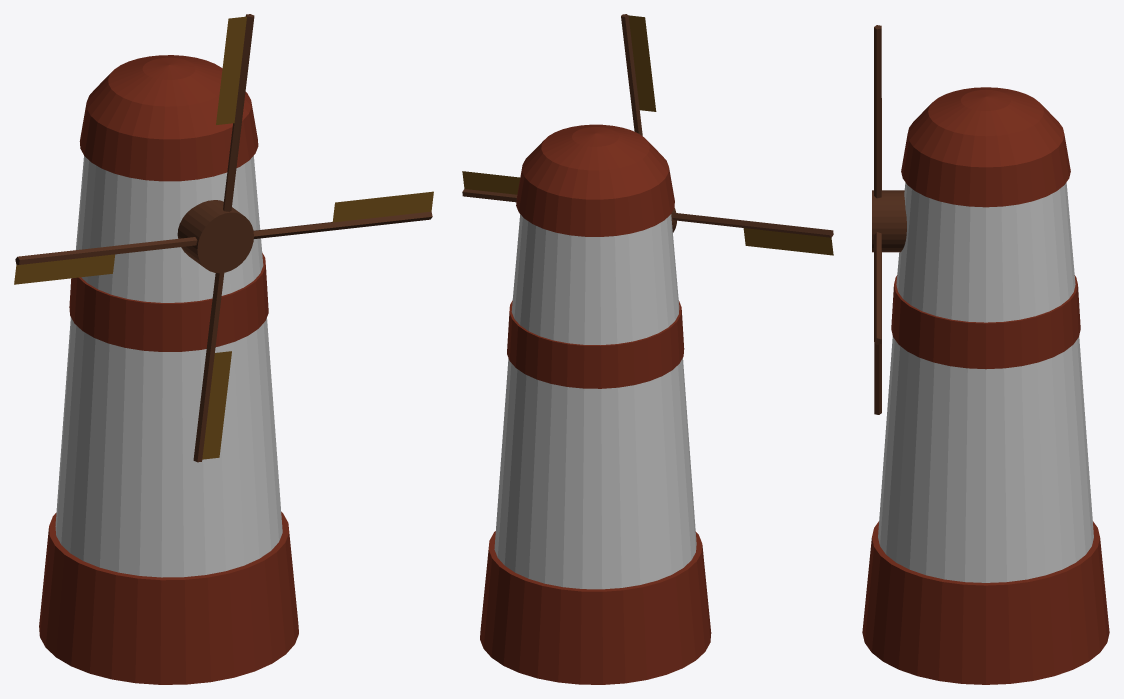
Rendered from windmill.fbx.
3 views of the same model, side by side, from view 1: azimuth 30°, elevation 25°; view 2: azimuth 150°, elevation 25°; view 3: azimuth 270°, elevation 25° (orthographic). The views are drawn at different scales.
Visible parts, largest first — view 1: Cube, Circle, Cylinder; view 2: Cube, Circle; view 3: Cube, Circle, Cylinder.
Part boxes in pixels (<box>): Cube: <box>39,55,298,684</box>; Circle: <box>14,14,433,462</box>; Cylinder: <box>177,200,253,273</box>; Cube: <box>480,124,711,684</box>; Circle: <box>462,14,833,255</box>; Cube: <box>862,87,1109,684</box>; Circle: <box>874,25,881,414</box>; Cylinder: <box>872,190,906,252</box>.
Size of the model in its own units: 840 by 1253 by 453.
